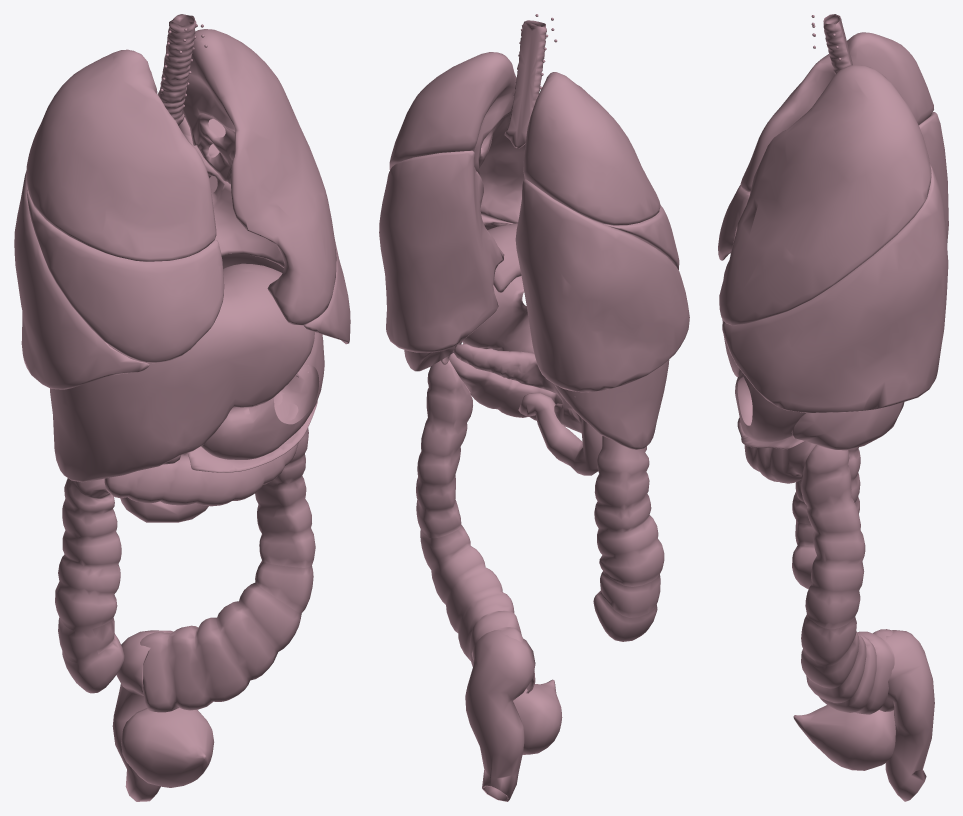
Rendered from organ.zanatomy-base.glb.
3 renders of one model, left to right at view 1: azimuth 30°, elevation 25°; view 2: azimuth 150°, elevation 25°; view 3: azimuth 270°, elevation 25°, orthographic. The views are drawn at different scales.
Parts seen in each view (by area): view 1: Superior lobe of right lung.001, Liver.001, Superior lobe of left lung.001, Descending colon.001, Middle lobe of right lung.001, Ascending colon.001, Inferior lobe of right lung.001, Urinary bladder.001, Stomach.001, Transverse colon.001, Inferior lobe of left lung.001, Sigmoid colon.001 (+3 smaller); view 2: Inferior lobe of right lung.001, Inferior lobe of left lung.001, Descending colon.001, Superior lobe of right lung.001, Superior lobe of left lung.001, Ascending colon.001, Sigmoid colon.001, Liver.001, Duodenum.001, Trachea.001, Pancreas.001, Stomach.001 (+4 smaller); view 3: Superior lobe of left lung.001, Inferior lobe of left lung.001, Descending colon.001, Superior lobe of right lung.001, Sigmoid colon.001, Urinary bladder.001, Spleen.001, Stomach.001, Ascending colon.001, Transverse colon.001, Inferior lobe of right lung.001, Trachea.001 (+2 smaller).
Boxes of the visible parts, box(x1,y1,x2,y2) form: Superior lobe of right lung.001: box(26, 49, 216, 261); Liver.001: box(50, 263, 314, 482); Superior lobe of left lung.001: box(183, 29, 336, 325); Descending colon.001: box(140, 428, 315, 712); Middle lobe of right lung.001: box(26, 190, 224, 363); Ascending colon.001: box(55, 478, 124, 693); Inferior lobe of right lung.001: box(14, 170, 149, 389); Urinary bladder.001: box(121, 707, 214, 787); Stomach.001: box(201, 332, 324, 459); Transverse colon.001: box(104, 392, 298, 506); Inferior lobe of left lung.001: box(178, 117, 350, 344); Sigmoid colon.001: box(112, 630, 173, 801); Inferior lobe of right lung.001: box(515, 179, 689, 392); Inferior lobe of left lung.001: box(379, 150, 512, 352); Descending colon.001: box(416, 360, 535, 693); Superior lobe of right lung.001: box(523, 72, 660, 225); Superior lobe of left lung.001: box(389, 52, 525, 223); Ascending colon.001: box(593, 436, 664, 641); Sigmoid colon.001: box(465, 630, 535, 801); Liver.001: box(488, 223, 669, 449); Duodenum.001: box(518, 393, 602, 475); Trachea.001: box(504, 20, 546, 148); Pancreas.001: box(453, 344, 581, 432); Stomach.001: box(462, 276, 533, 352); Superior lobe of left lung.001: box(719, 65, 931, 325); Inferior lobe of left lung.001: box(722, 164, 948, 412); Descending colon.001: box(801, 445, 894, 714); Superior lobe of right lung.001: box(740, 32, 933, 191); Sigmoid colon.001: box(885, 630, 934, 801); Urinary bladder.001: box(793, 705, 895, 770); Spleen.001: box(791, 402, 904, 450); Stomach.001: box(735, 372, 805, 442); Ascending colon.001: box(792, 447, 860, 588); Transverse colon.001: box(744, 441, 815, 483); Inferior lobe of right lung.001: box(730, 112, 948, 253); Trachea.001: box(823, 14, 852, 74).
Bounding box in the file's own units: 0.2609 × 0.6953 × 0.1857.
